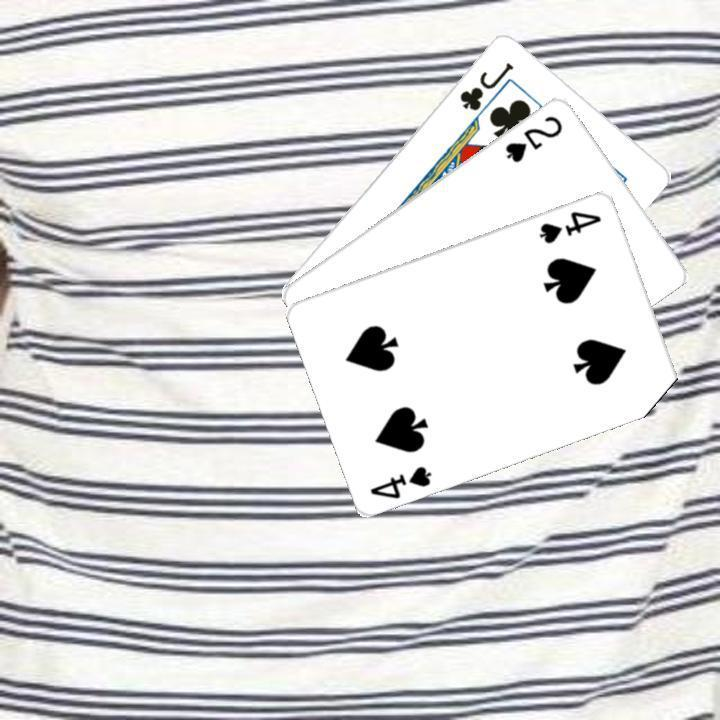2: (501, 110, 565, 164)
4: (535, 206, 604, 245), (365, 461, 434, 500)
J: (455, 57, 516, 113)
